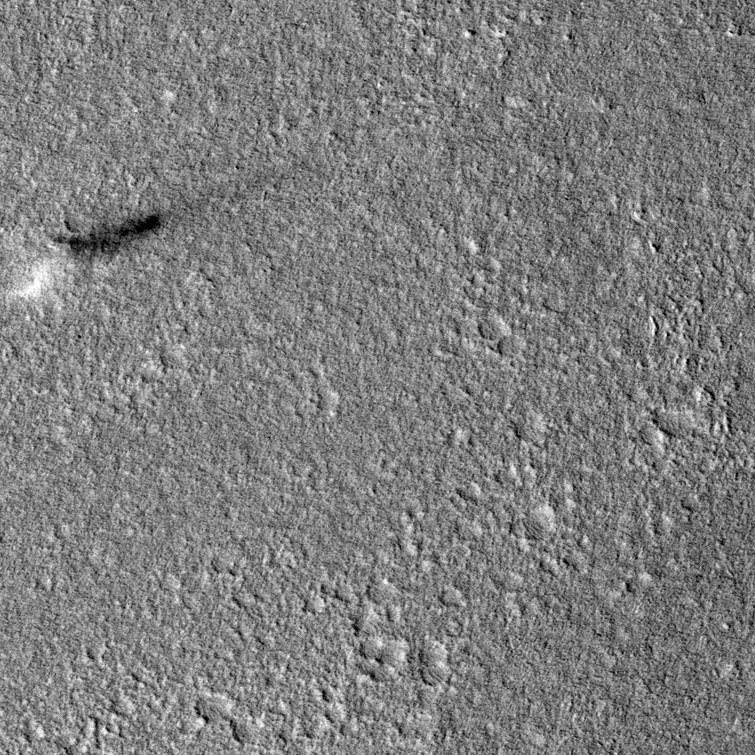dust_devil: (7, 206, 167, 311)
